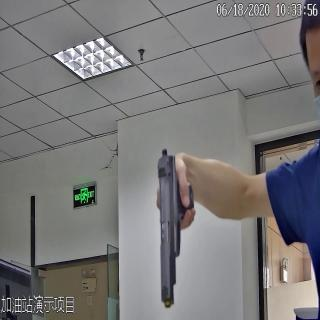gun: (147, 145, 198, 301)
